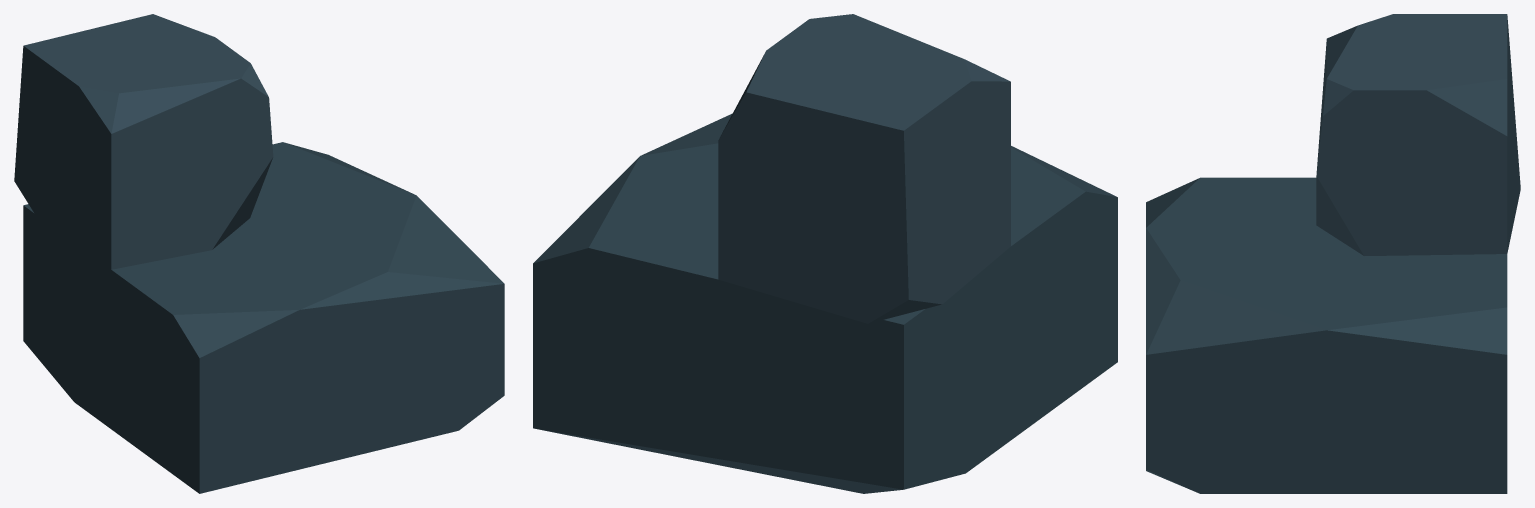
The model's file is stair_straight_narrow_half_corner_conv.fbx.
3 renders of one model, left to right at view 1: azimuth 30°, elevation 25°; view 2: azimuth 150°, elevation 25°; view 3: azimuth 270°, elevation 25°, orthographic. The views are drawn at different scales.
Visible parts, largest first — view 1: stair_straight_narrow_half_corner_conv; view 2: stair_straight_narrow_half_corner_conv; view 3: stair_straight_narrow_half_corner_conv.
Boxes of the visible parts, x1,y1,x2,y2 form: stair_straight_narrow_half_corner_conv: [14, 14, 504, 493]; stair_straight_narrow_half_corner_conv: [533, 14, 1117, 493]; stair_straight_narrow_half_corner_conv: [1146, 14, 1520, 493].
Size of the model in its own units: 51.08 by 50 by 51.87.
